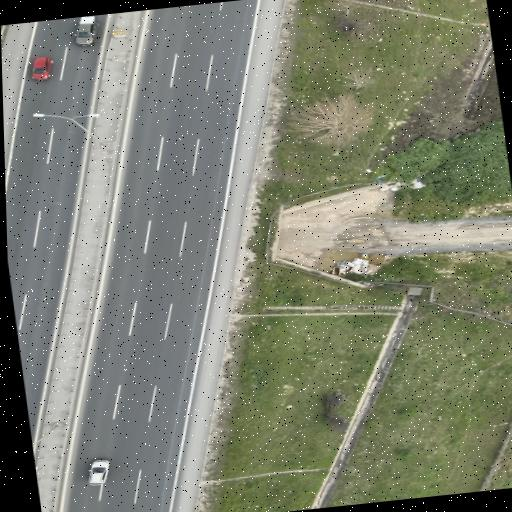car: (75, 16, 98, 45), (89, 458, 110, 484), (32, 56, 53, 80)
